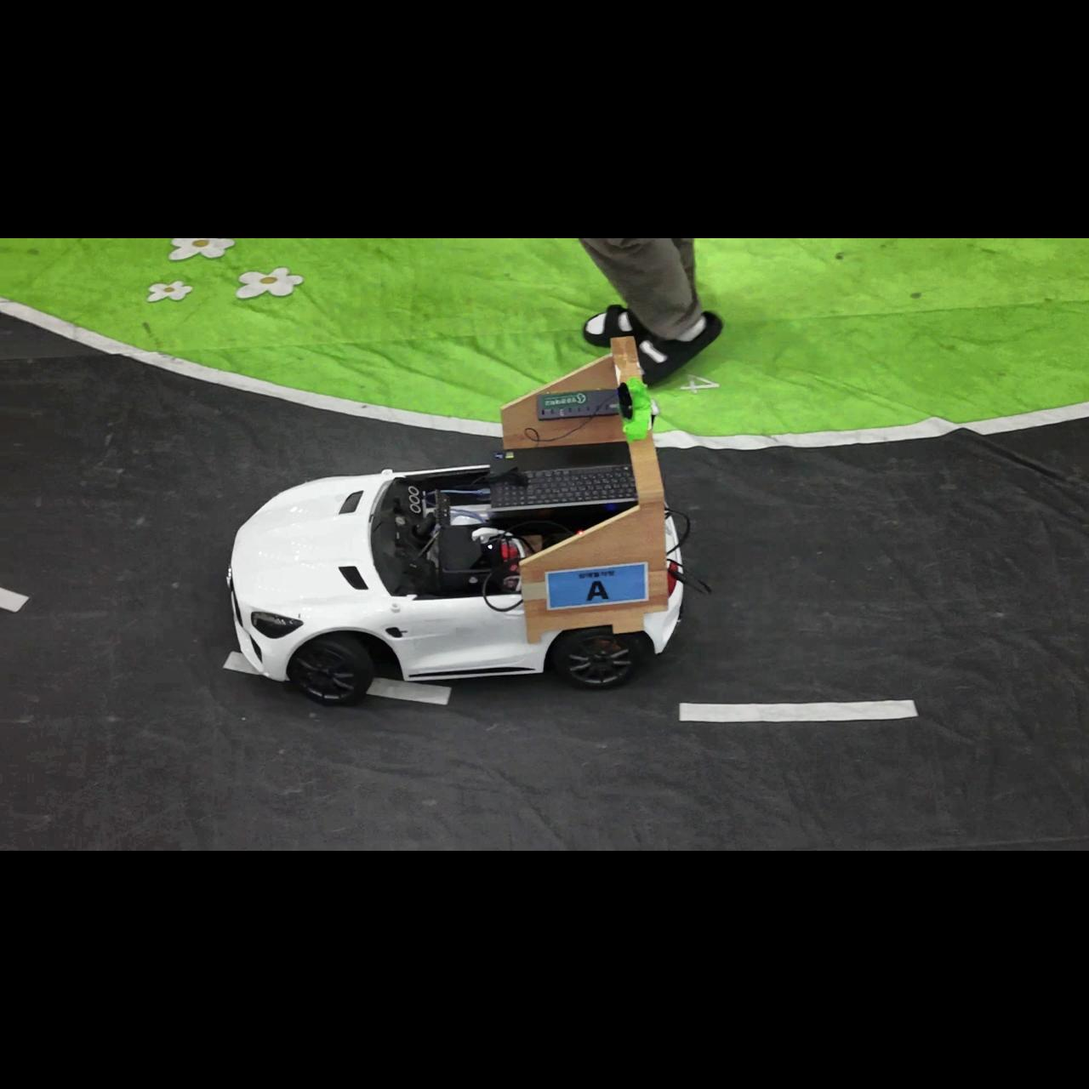broken_line: (679, 700, 919, 722), (366, 678, 452, 705), (222, 651, 262, 675), (0, 588, 30, 613), (285, 673, 290, 681)
